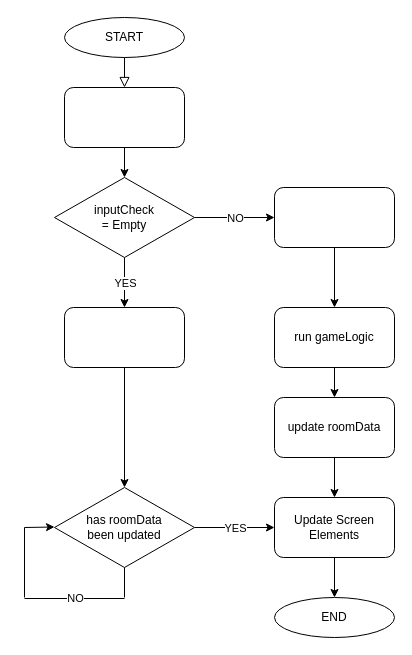
Image size: 412x655. Some labels were removed from this diagram. Here are the shapes that lost their labels. From the top down, the box of each, then its label:
(64, 86, 184, 148): Fight Button Clicked
(274, 186, 394, 248): set opponent selection = inputCheck
(64, 306, 184, 368): update inputCheck = playerSelection
